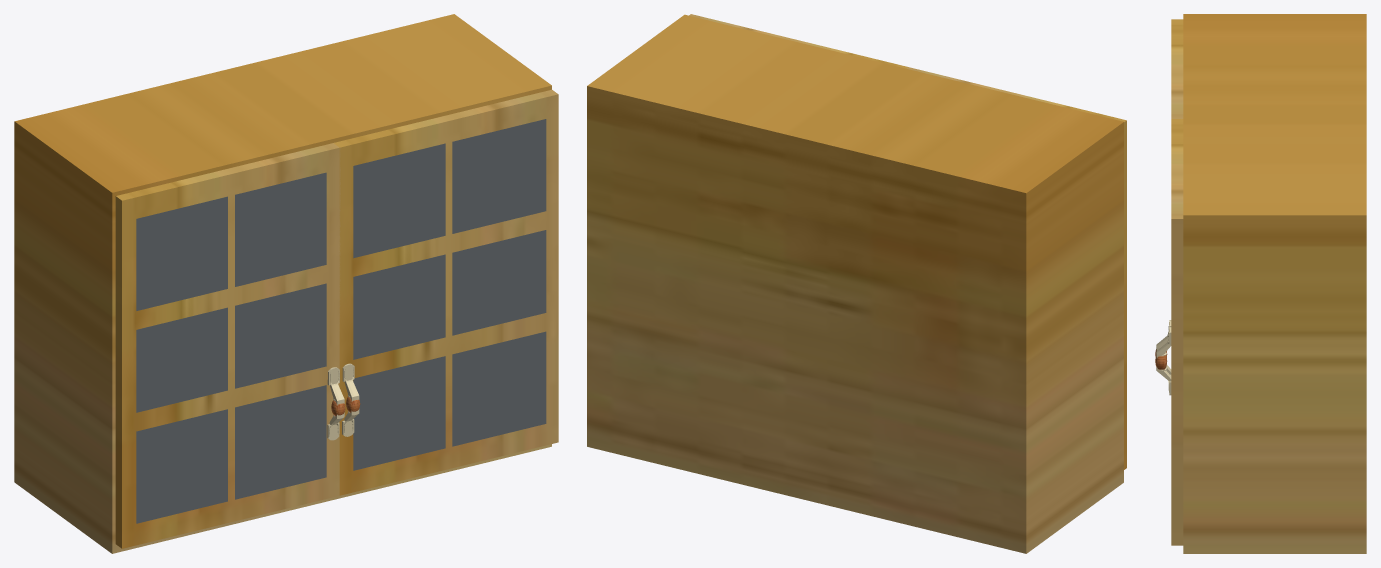
The model's file is sweethome3d-contributions-wood-glass-door-cabinet-217.glb.
3 renders of one model, left to right at view 1: azimuth 30°, elevation 25°; view 2: azimuth 150°, elevation 25°; view 3: azimuth 270°, elevation 25°, orthographic. The views are drawn at different scales.
Visible parts, largest first — view 1: PolyMesh_9, sweethome3d_window_pane, sweethome3d_window_pane_1, PolyMesh_11, PolyMesh_11_1, verthandle, verthandle_1; view 2: PolyMesh_9, PolyMesh_11; view 3: PolyMesh_9, PolyMesh_11_1, PolyMesh_11, verthandle.
Part boxes in pixels (x1,y1,x2,y2): PolyMesh_9: [14, 14, 551, 553]; sweethome3d_window_pane: [353, 119, 546, 470]; sweethome3d_window_pane_1: [136, 172, 326, 523]; PolyMesh_11: [115, 143, 340, 548]; PolyMesh_11_1: [333, 89, 558, 495]; verthandle: [342, 363, 359, 436]; verthandle_1: [327, 367, 344, 440]; PolyMesh_9: [587, 14, 1123, 553]; PolyMesh_11: [907, 67, 1126, 469]; PolyMesh_9: [1183, 14, 1366, 553]; PolyMesh_11_1: [1171, 119, 1183, 545]; PolyMesh_11: [1171, 19, 1183, 119]; verthandle: [1156, 326, 1171, 395].
Size of the model in its own units: 8.12 by 6.37 by 3.6.
4 materials, 2 textured.
